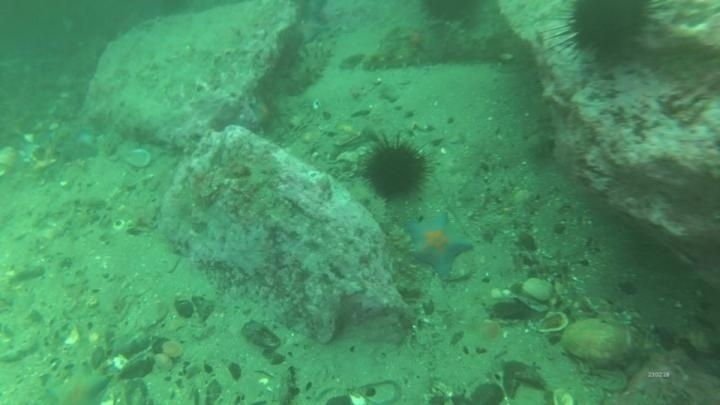echinus: (555, 1, 660, 64), (359, 135, 433, 202), (418, 1, 490, 28)
holothurian: (343, 175, 393, 237), (283, 38, 335, 97), (381, 223, 419, 291), (357, 43, 436, 75)
starfish: (402, 211, 475, 279), (42, 362, 113, 404), (246, 93, 281, 133), (291, 16, 330, 46)
